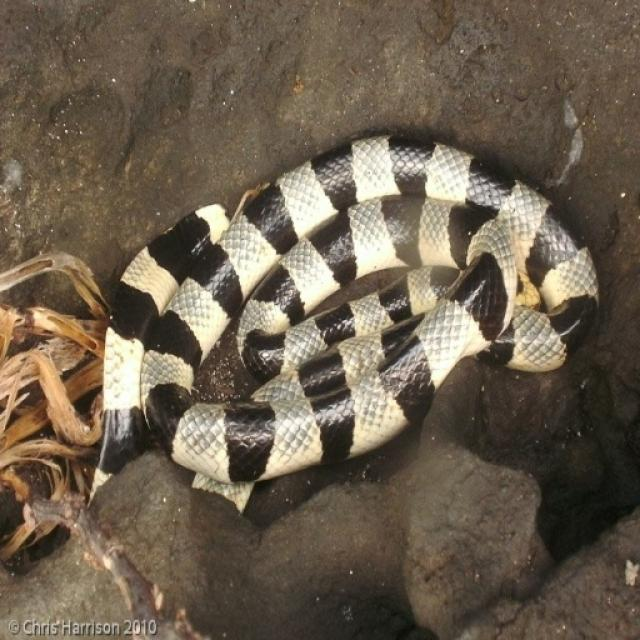snake: (98, 129, 607, 484)
